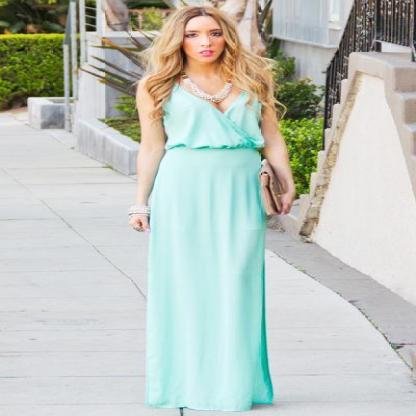bag: (261, 167, 291, 214)
dress: (145, 93, 272, 415)
